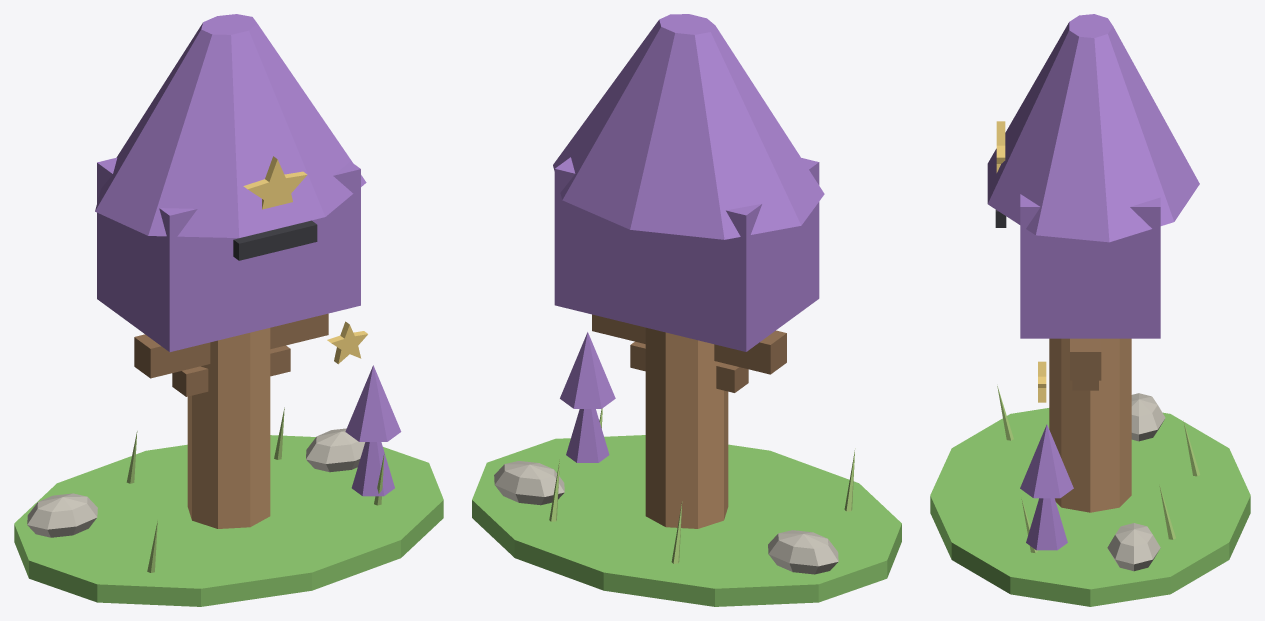
The picture shows the model from 3 angles, left to right: view 1: azimuth 30°, elevation 25°; view 2: azimuth 150°, elevation 25°; view 3: azimuth 270°, elevation 25°; orthographic projection. The views are drawn at different scales.
Parts seen in each view (by area): view 1: round grass base, tall wizard hat roof, purple wizard mailbox body, short rounded wooden post, chunky cross support, small rock.001, side purple crystal top, wide black slot, small rock, side purple crystal bottom, large front gold star, small lower brace (+1 smaller); view 2: round grass base, tall wizard hat roof, purple wizard mailbox body, short rounded wooden post, chunky cross support, small rock.001, small rock, side purple crystal top, side purple crystal bottom, small lower brace; view 3: round grass base, tall wizard hat roof, purple wizard mailbox body, short rounded wooden post, side purple crystal top, small rock, side purple crystal bottom, chunky cross support, small rock.001, large front gold star.
Part boxes in pixels (x1,y1,x2,y2): round grass base: (14, 435, 443, 606); tall wizard hat roof: (95, 14, 366, 237); purple wizard mailbox body: (97, 157, 360, 351); short rounded wooden post: (187, 328, 270, 528); chunky cross support: (134, 313, 328, 378); small rock.001: (27, 493, 97, 537); side purple crystal top: (345, 365, 401, 441); wide black slot: (233, 220, 317, 260); small rock: (306, 428, 365, 472); side purple crystal bottom: (351, 442, 394, 496); large front gold star: (243, 156, 307, 209); small lower brace: (172, 345, 290, 396); round grass base: (472, 435, 901, 606); tall wizard hat roof: (553, 14, 824, 239); purple wizard mailbox body: (554, 157, 819, 351); short rounded wooden post: (645, 327, 728, 528); chunky cross support: (592, 314, 786, 374); small rock.001: (768, 530, 838, 574); small rock: (494, 461, 564, 505); side purple crystal top: (560, 332, 615, 408); side purple crystal bottom: (566, 409, 609, 462); small lower brace: (630, 341, 748, 392); round grass base: (930, 408, 1250, 606); tall wizard hat roof: (987, 14, 1199, 242); purple wizard mailbox body: (1020, 194, 1160, 338); short rounded wooden post: (1049, 338, 1131, 512); side purple crystal top: (1020, 424, 1073, 498); small rock: (1107, 523, 1160, 571); side purple crystal bottom: (1026, 498, 1067, 550); chunky cross support: (1070, 338, 1101, 380); small rock.001: (1131, 393, 1165, 441); large front gold star: (996, 121, 1005, 172).
Size of the model in its own units: 1.84 by 2.23 by 1.32.
